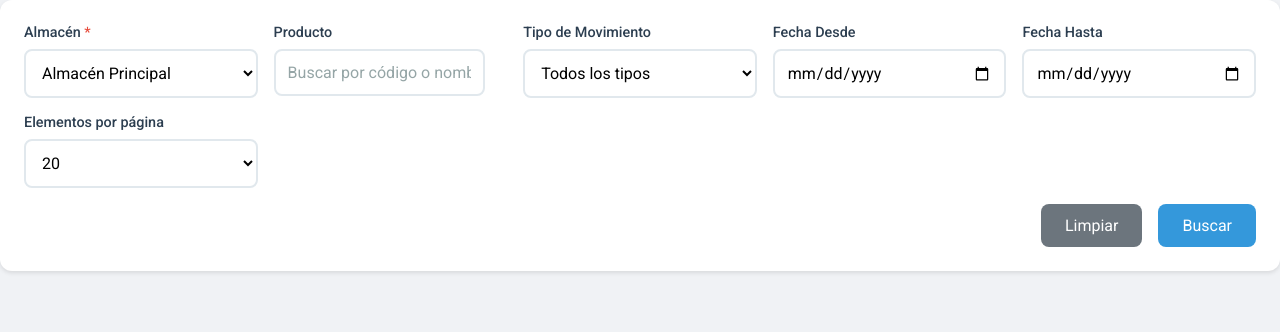
Test: FiltersKardex › Validación de formulario › debe mostrar error cuando fecha hasta es menor que fecha desde
Type "2024-01-15" into the date field with test id "kardex-filter-fecha-desde".
click(890, 74); type("2024-01-15")  # box [773,49,1006,98]
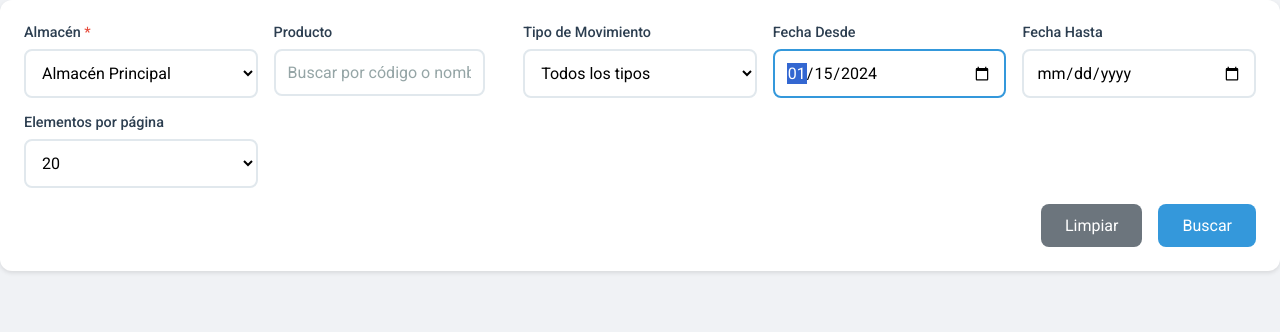
Type "2024-01-10" into the date field with test id "kardex-filter-fecha-hasta".
click(1139, 74); type("2024-01-10")  # box [1022,49,1256,98]
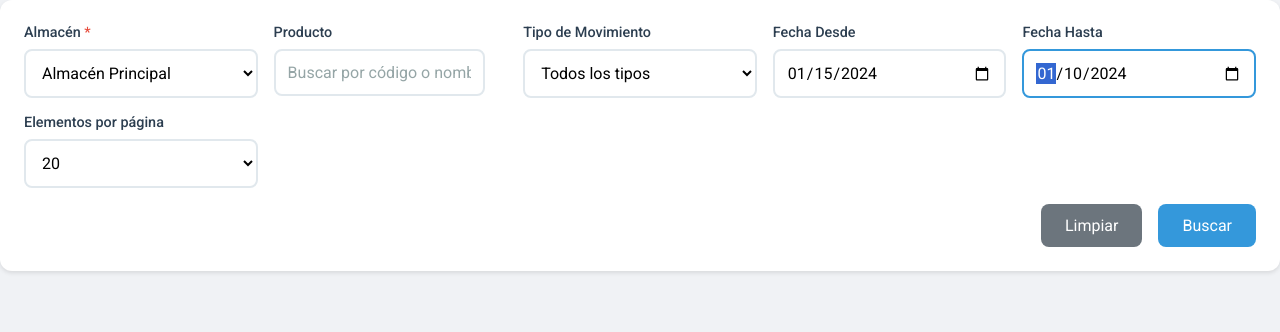
Click the button with test id "kardex-filter-search-button".
click(1207, 226)  # box [1158,204,1256,247]
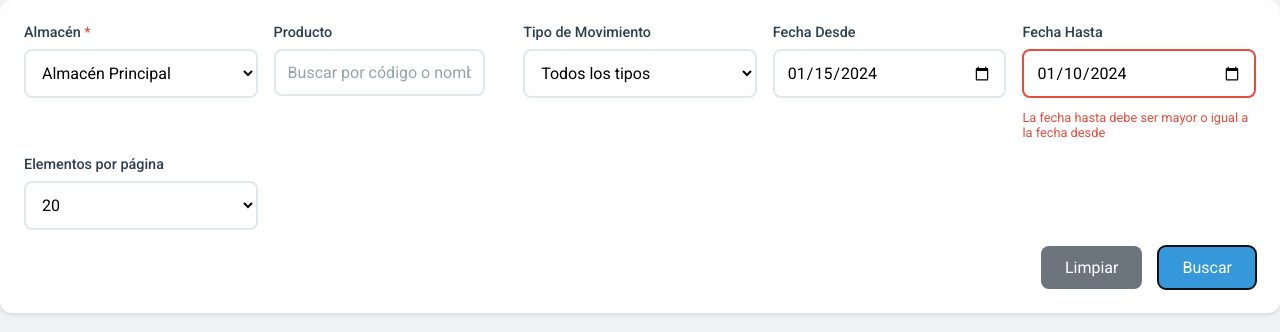
Check: the text "La fecha hasta debe ser mayor o igual a la fecha desde" is shown, box [1022,110,1256,140]
